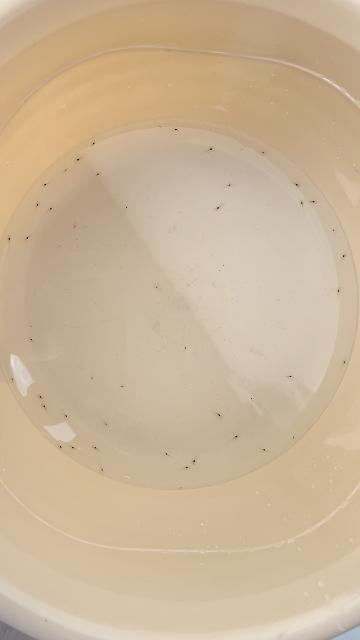benur: (71, 224, 79, 231), (28, 338, 36, 344), (209, 145, 215, 151), (295, 183, 301, 189), (336, 286, 342, 292), (186, 464, 192, 470), (49, 205, 55, 211), (104, 422, 110, 428), (100, 467, 105, 474), (71, 446, 78, 451), (7, 234, 12, 241), (119, 384, 126, 389), (92, 139, 97, 145), (73, 158, 79, 163), (312, 199, 317, 205), (342, 252, 347, 258), (289, 373, 295, 378), (260, 447, 266, 452), (235, 433, 241, 438), (191, 460, 196, 466), (91, 444, 97, 449), (59, 445, 64, 451), (40, 403, 46, 408), (9, 376, 15, 381), (24, 236, 29, 242), (36, 200, 41, 206), (183, 346, 188, 352), (97, 171, 102, 176), (214, 207, 219, 212), (262, 151, 267, 156), (299, 199, 304, 204), (218, 414, 223, 419), (65, 415, 70, 420), (37, 393, 42, 398), (89, 377, 94, 382), (124, 205, 129, 210), (172, 127, 178, 131), (343, 358, 347, 364), (229, 183, 234, 187), (332, 227, 336, 232), (291, 435, 295, 440), (163, 451, 168, 455), (42, 183, 46, 188), (65, 167, 69, 172), (248, 396, 252, 400), (179, 486, 183, 489), (156, 286, 159, 289), (159, 126, 162, 128)
